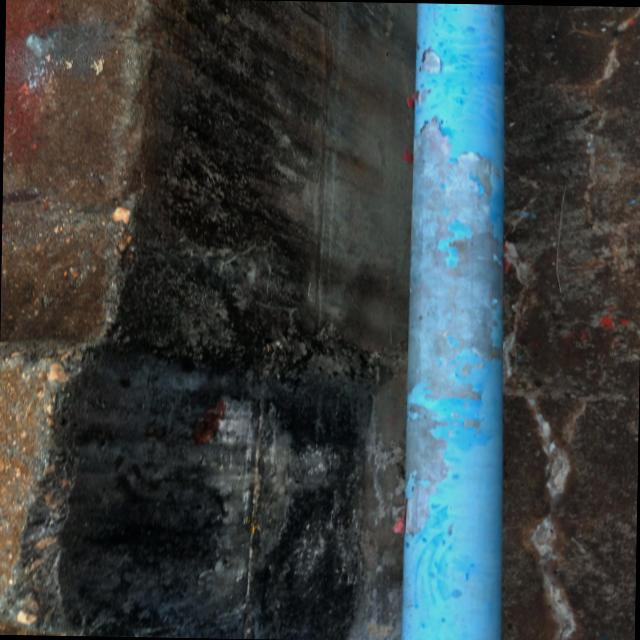gas: (396, 1, 518, 640)
